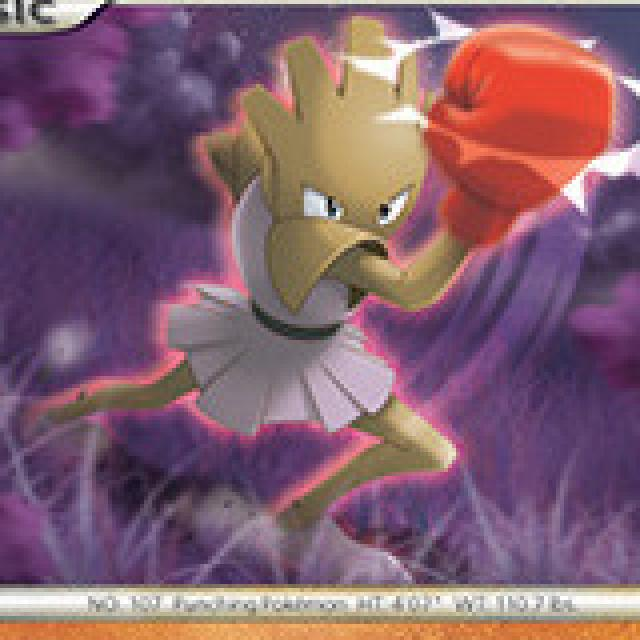Hitmonchan: (135, 56, 523, 470)
